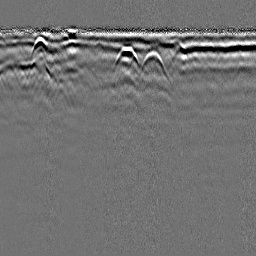cavity: (111, 45, 140, 68)
